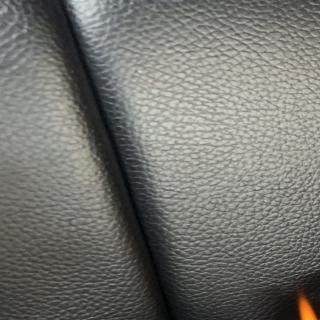fire: (297, 294, 320, 320)
